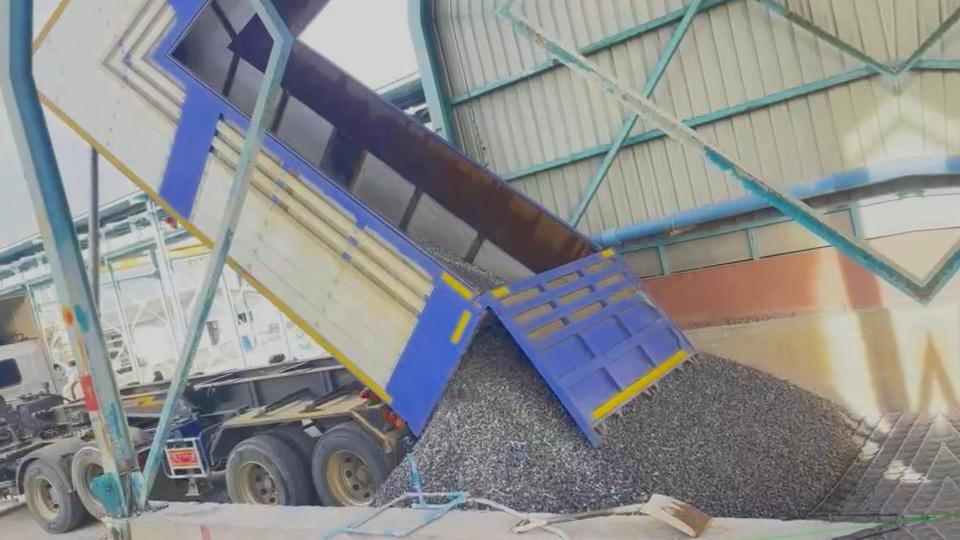gravel: (415, 317, 859, 518), (415, 237, 506, 290), (377, 461, 411, 503)
